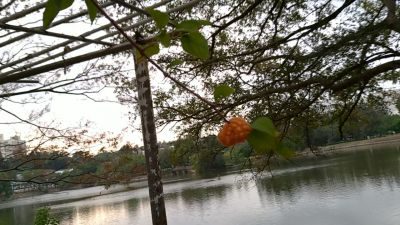eggs: (218, 116, 253, 148)
